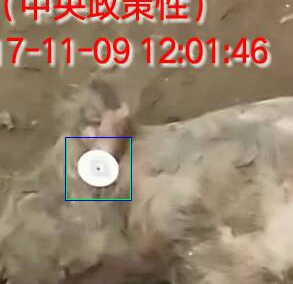text: (66, 137, 130, 199)
